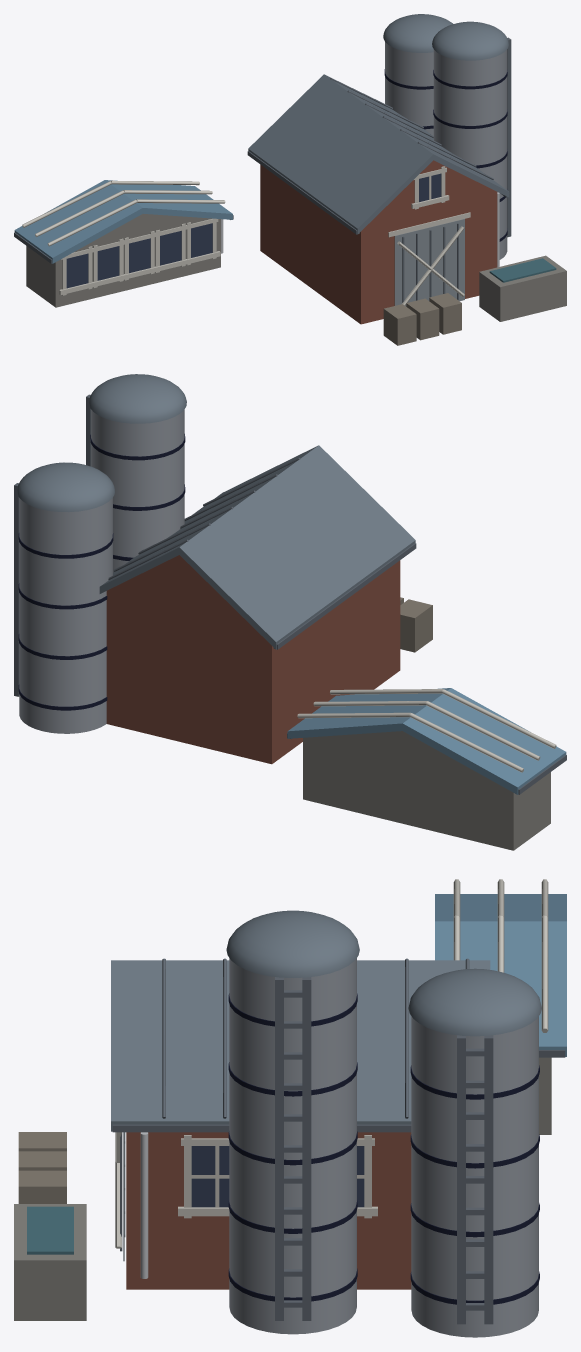
The model's file is farm_building_lvl3.glb.
3 renders of one model, top to bottom at view 1: azimuth 30°, elevation 25°; view 2: azimuth 150°, elevation 25°; view 3: azimuth 270°, elevation 25°, orthographic. The views are drawn at different scales.
Parts seen in each view (by area): view 1: farm_building; view 2: farm_building; view 3: farm_building.
Part boxes in pixels (x1=…): farm_building: x1=14, y1=14, x2=566, y2=345; farm_building: x1=14, y1=374, x2=566, y2=850; farm_building: x1=14, y1=879, x2=566, y2=1337.
Size of the model in its own units: 0.973 by 0.4952 by 0.6447.
